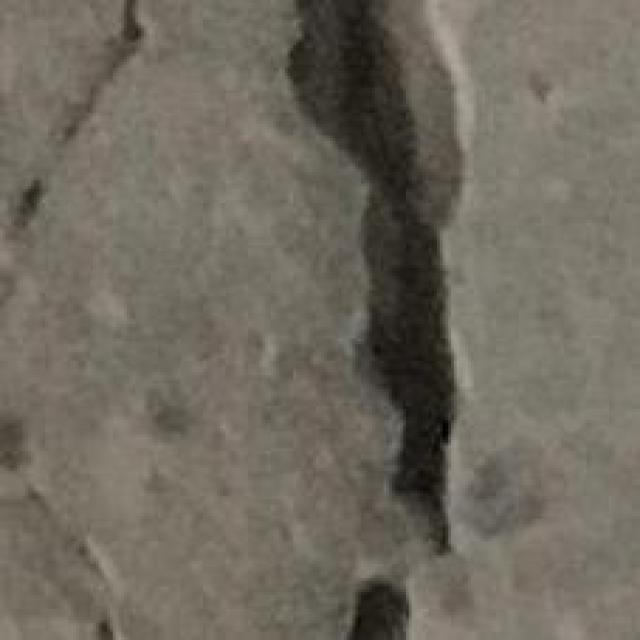Longitudinal: (258, 0, 492, 640), (0, 0, 161, 640)
